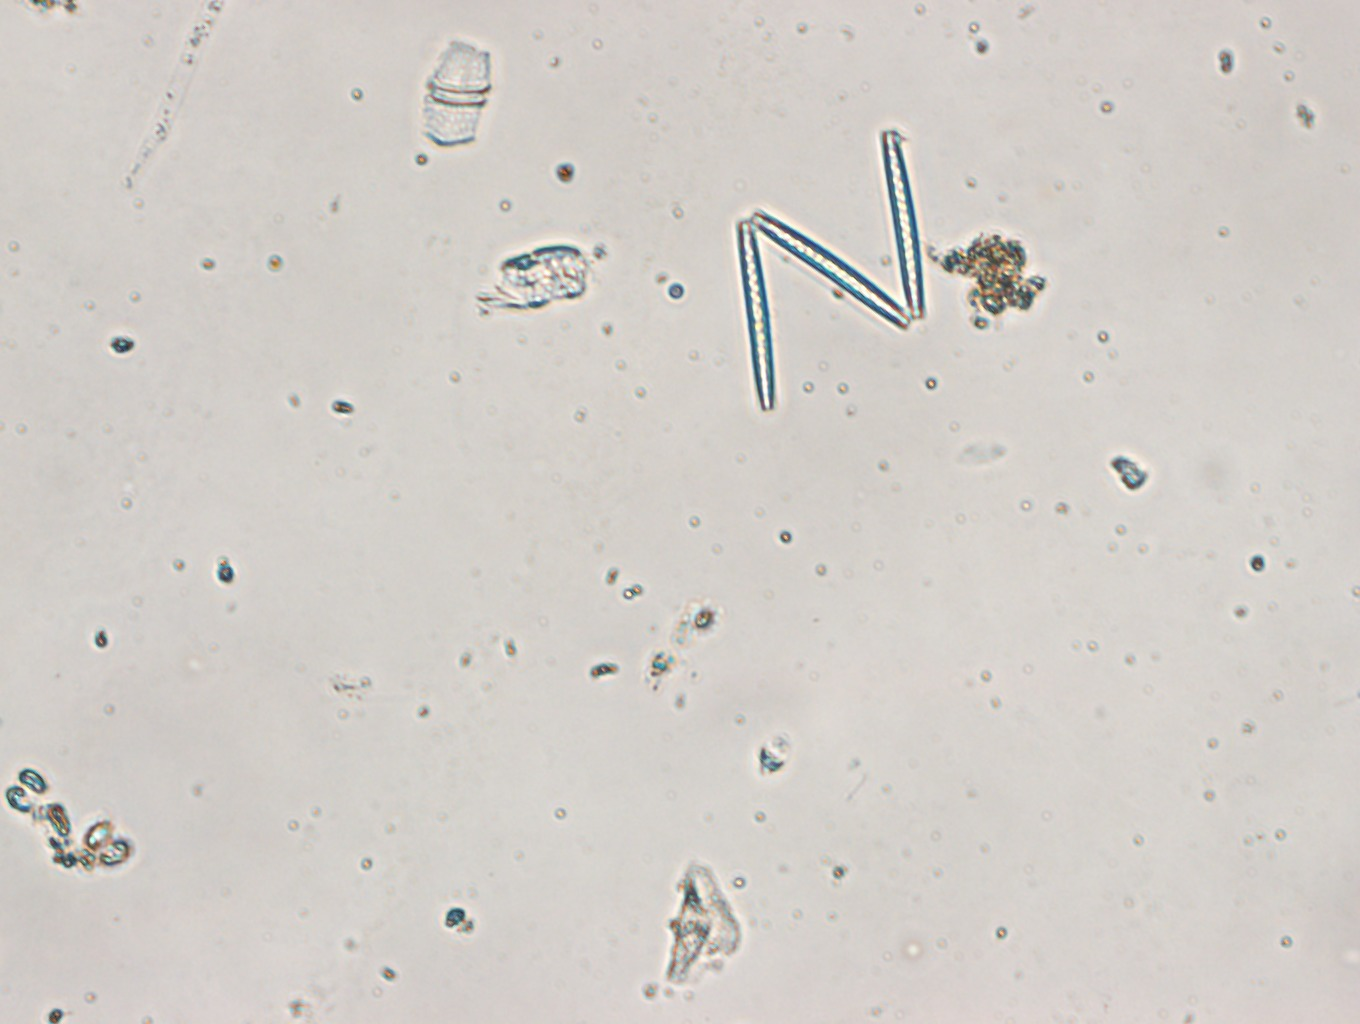thalassionema nitzschioides: (716, 115, 936, 414)
